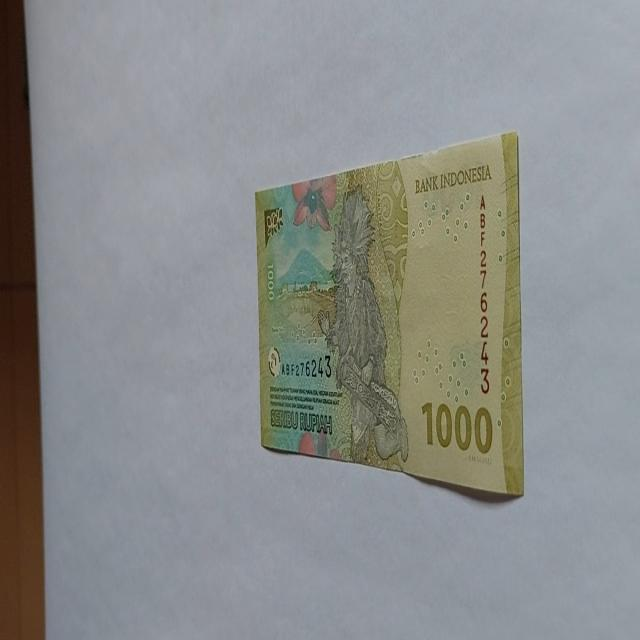seribu rupiah kertas: (254, 130, 524, 500)
